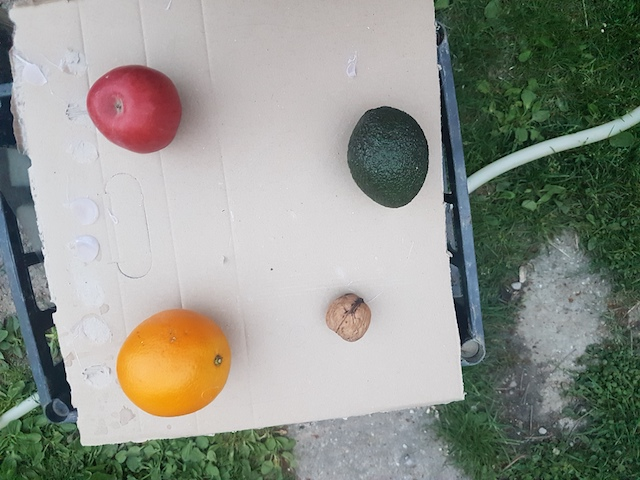apple: (85, 60, 186, 158)
avocado: (342, 102, 431, 208)
nut: (322, 290, 374, 344)
orange: (114, 304, 231, 418)
